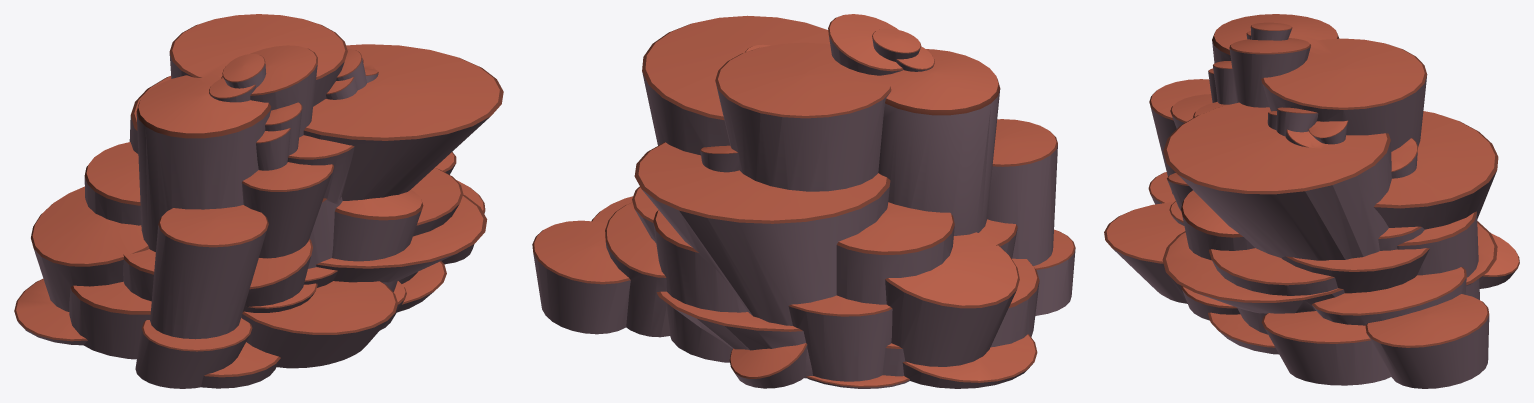
The model's file is Cliff4.fbx.
3 renders of one model, left to right at view 1: azimuth 30°, elevation 25°; view 2: azimuth 150°, elevation 25°; view 3: azimuth 270°, elevation 25°, orthographic. The views are drawn at different scales.
Parts seen in each view (by area): view 1: Model; view 2: Model; view 3: Model.
Part boxes in pixels (x1,y1,x2,y2): Model: (14,14,503,388); Model: (532,14,1075,388); Model: (1104,14,1519,388).
Bounding box in the file's own units: 6015 × 3299 × 5056.
